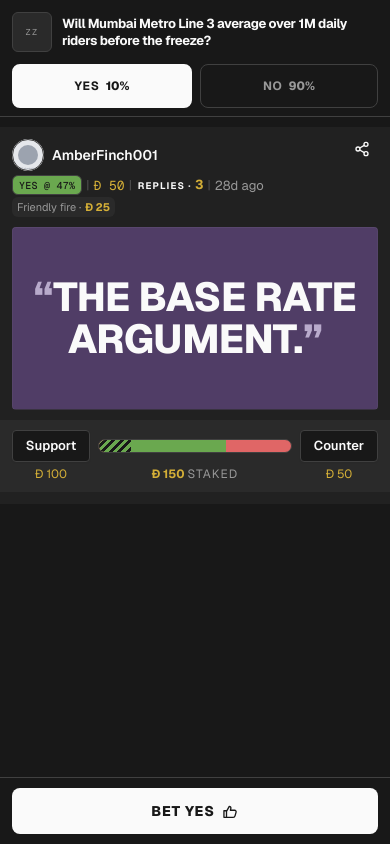
Test: phone friendly-fire — CLOSE-1: the switch in the header row, no gloss below 640px › phone-ff::the-switch-sits-INSIDE-the-sheet-composer's-header-row-with-the-helper-beneath
The width and height of the screenshot is (390, 844).
Click the button with test id "card-trigger-support".
click(51, 446)  # box [12,430,90,462]
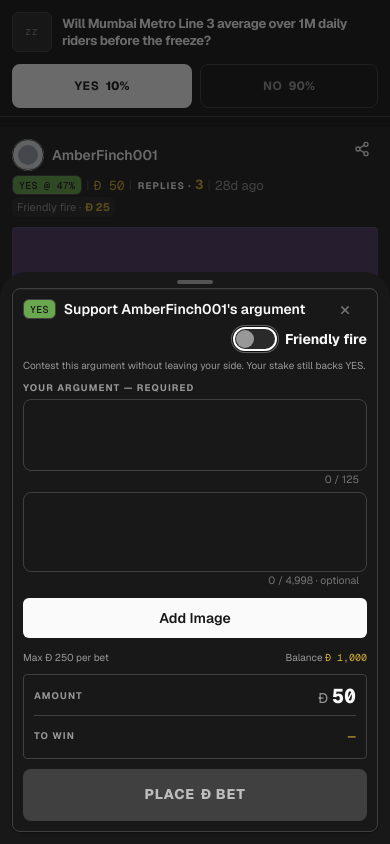
Now the element with test id "composer-header" is shown, box [23,299,367,351]
Now the switch with test id "ff-switch" is shown, box [233,327,277,351]
Now the button named "Close" is shown, box [323,288,367,331]
